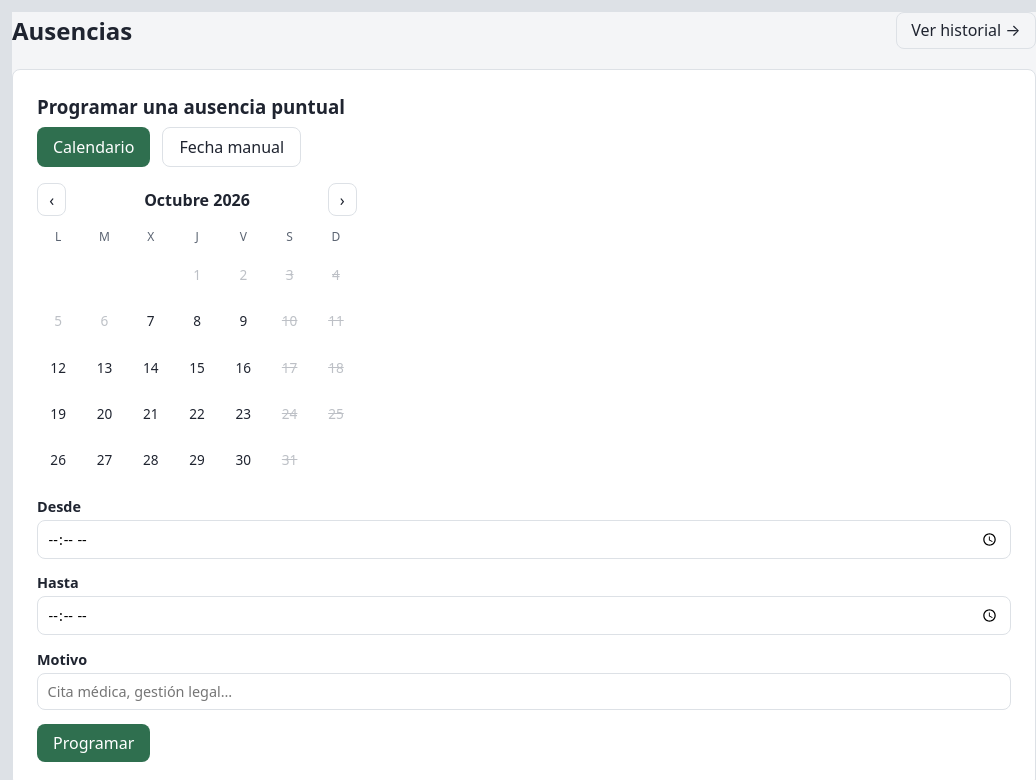
Test: WorkerAbsences › exige elegir un día antes de programar la ausencia
The width and height of the screenshot is (1036, 780).
In the time field labelled "Desde": (524, 539) [37,520,1011,559], type "09:00"
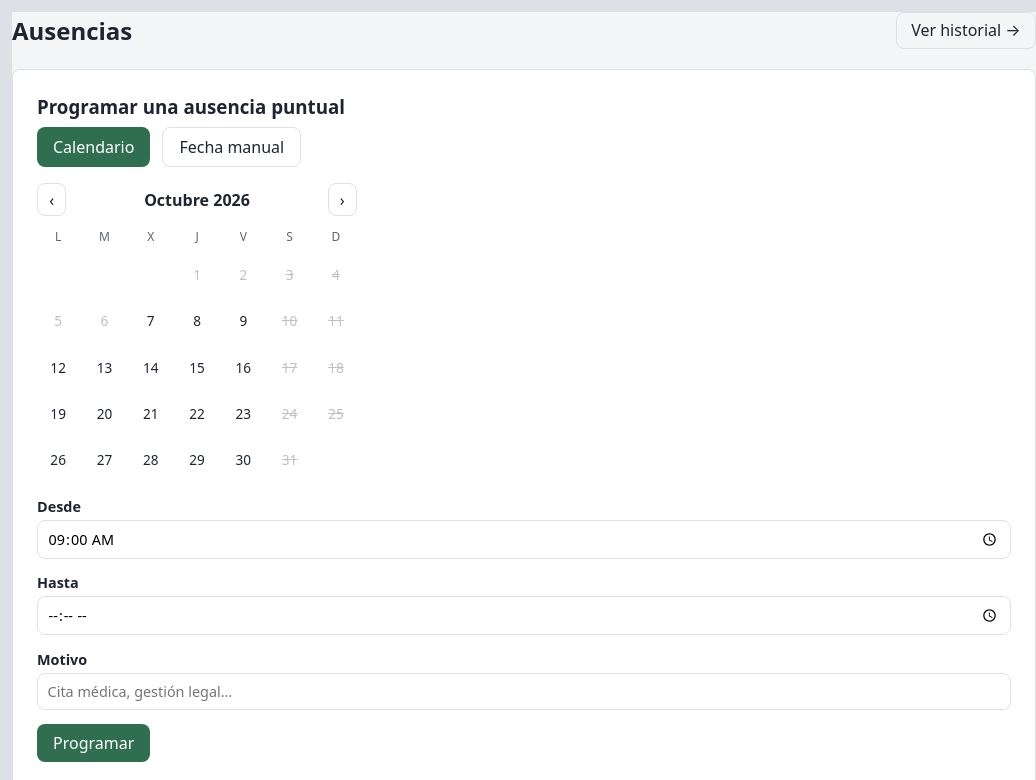
In the time field labelled "Hasta": (524, 616) [37,596,1011,636], type "09:30"
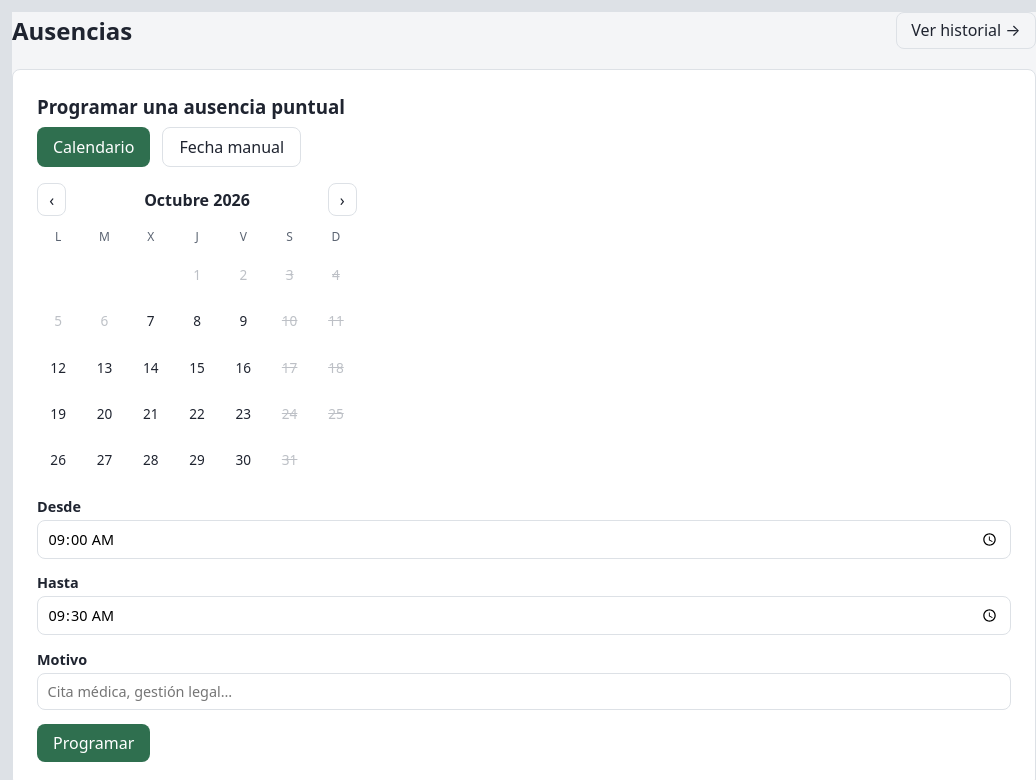
In the field labelled "Motivo": (524, 691) [37,673,1011,710], type "Gestión legal"
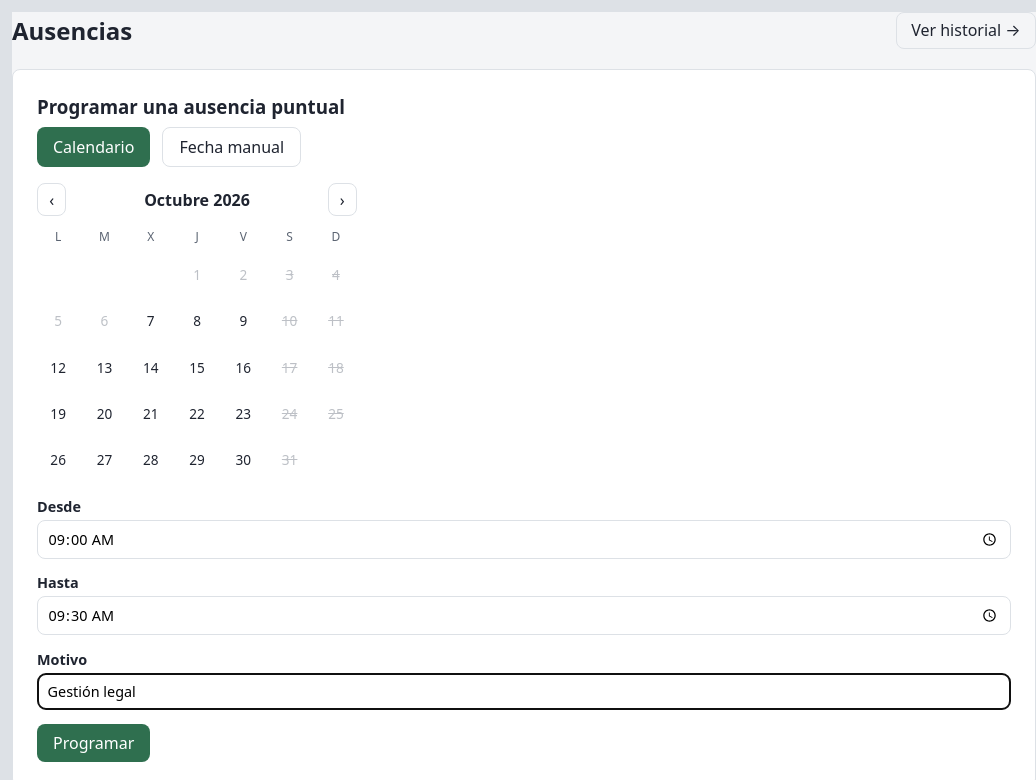
Click the button "Programar": (94, 743) [37,724,150,762]
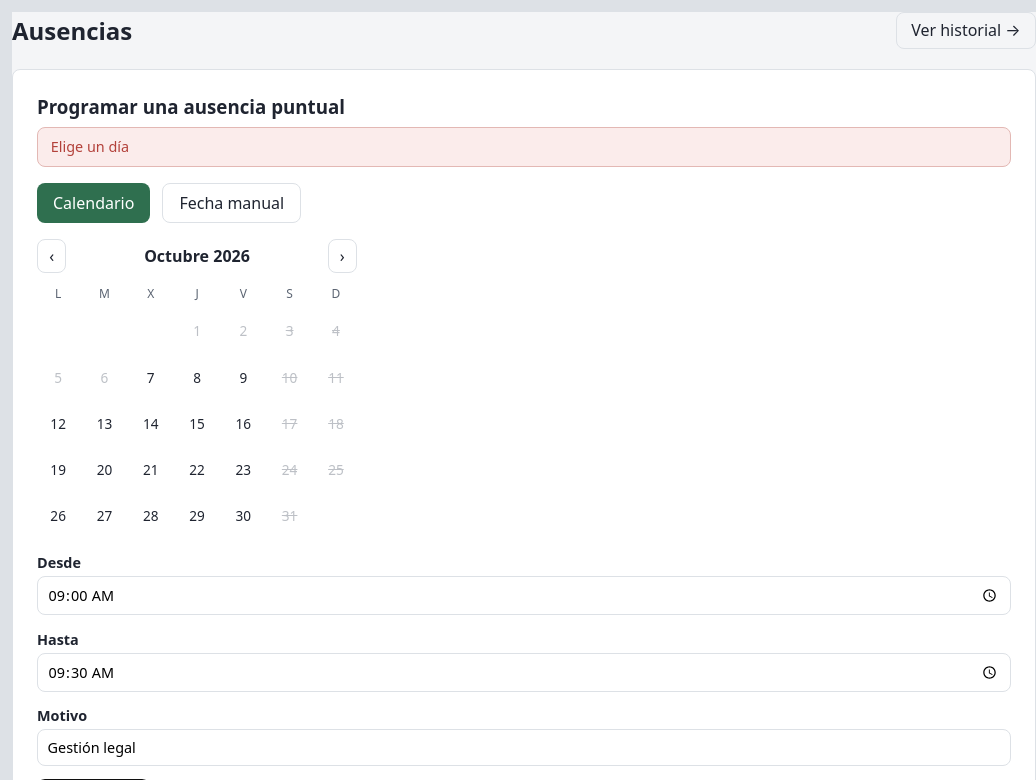
Now the text "Elige un día" is shown, box [37,127,1011,167]
